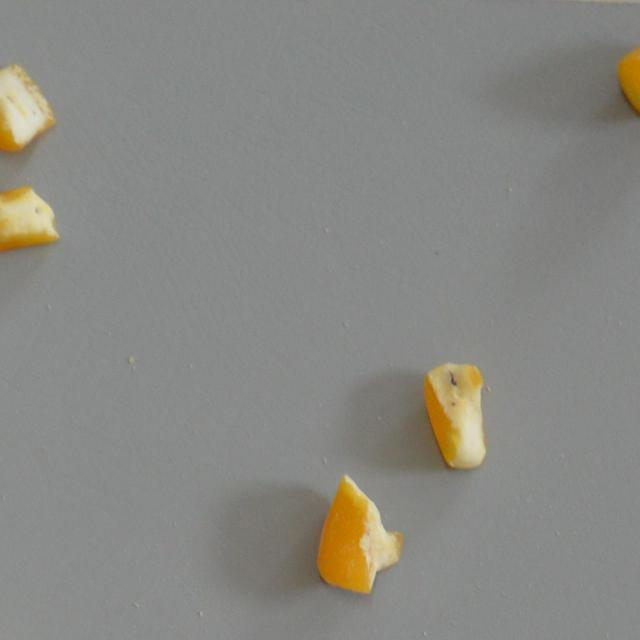pelicula: (317, 472, 406, 592), (0, 58, 57, 152), (614, 28, 640, 119)
punto_negro: (420, 355, 492, 475), (0, 184, 58, 259)
